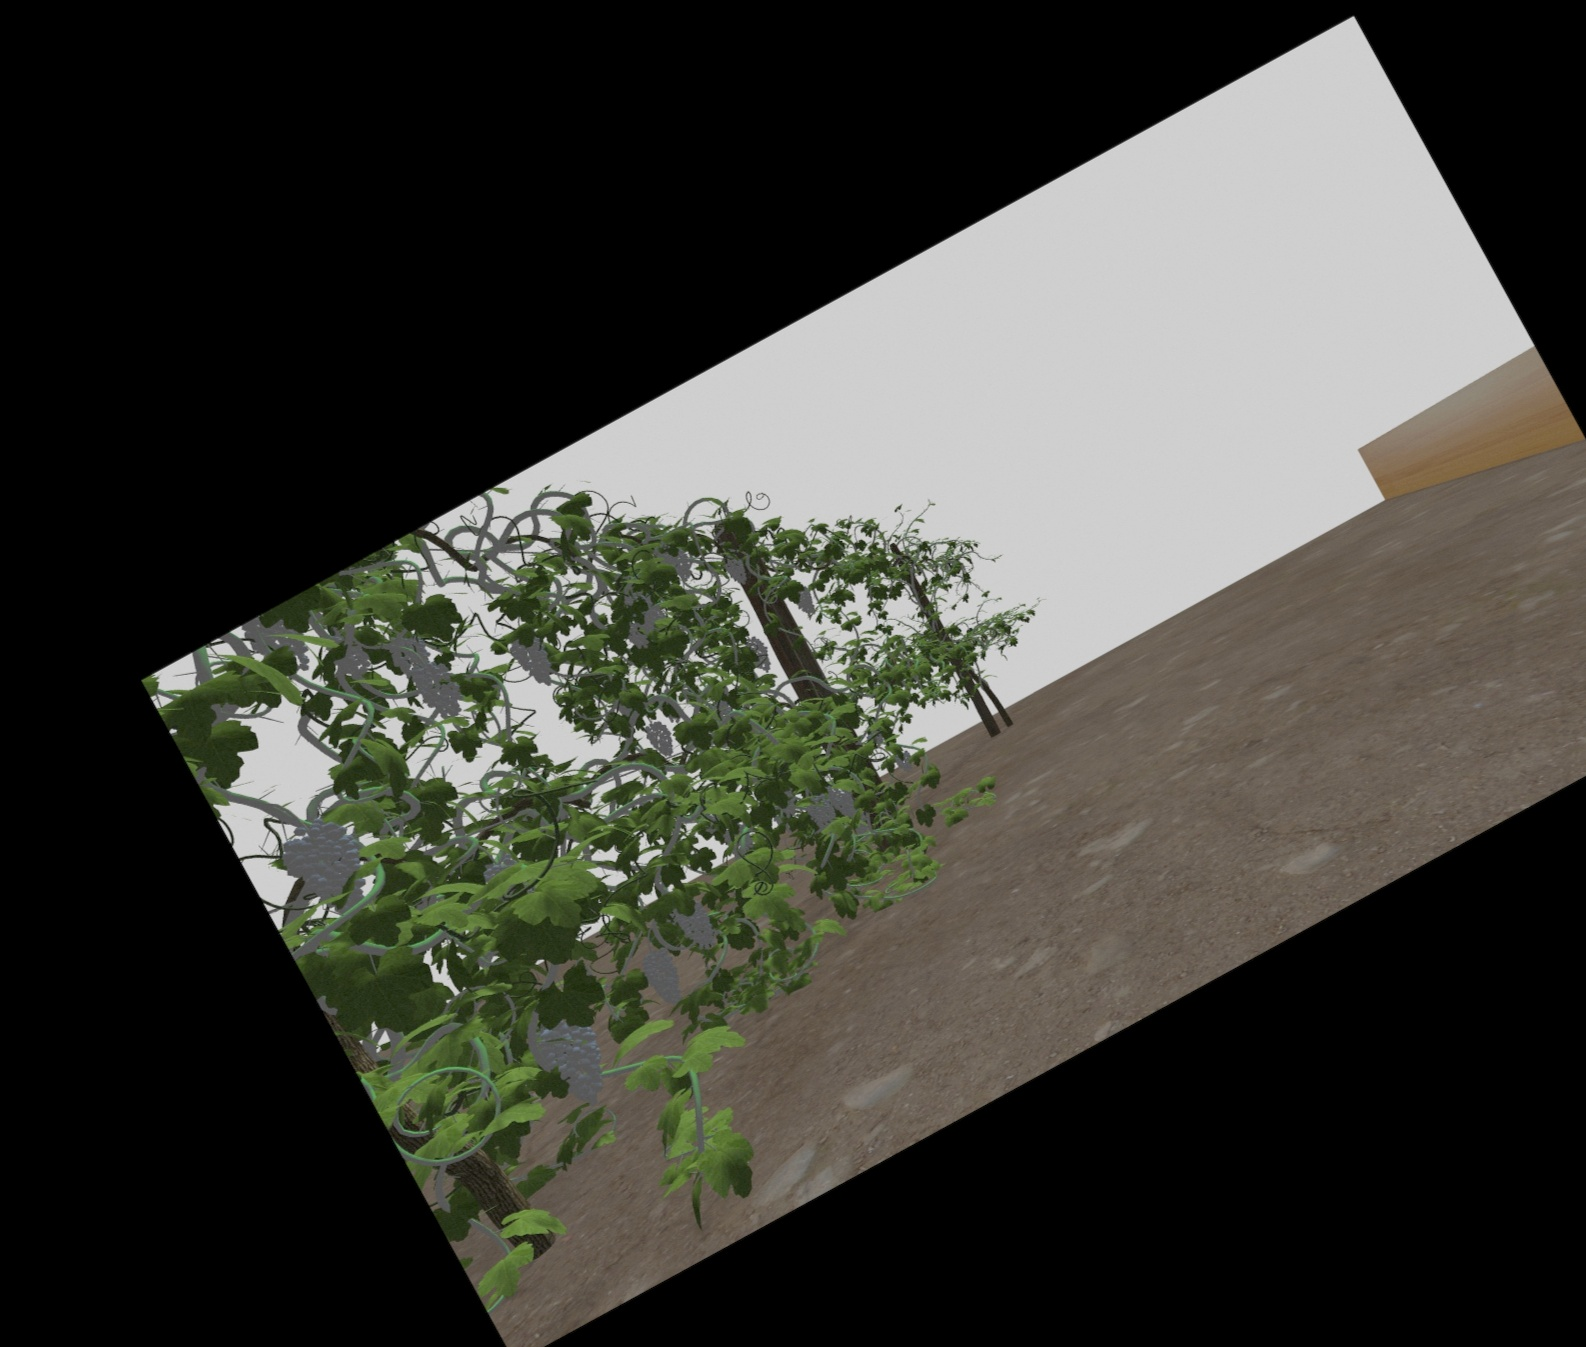grape: (289, 823, 357, 899), (546, 1022, 605, 1102), (422, 663, 458, 718), (517, 633, 550, 686), (648, 950, 681, 1000), (681, 903, 712, 947), (391, 633, 425, 669), (631, 591, 656, 629), (664, 543, 688, 580), (830, 782, 854, 816), (649, 722, 671, 756), (750, 636, 770, 671), (812, 799, 835, 829), (795, 587, 812, 613), (730, 556, 746, 584), (629, 623, 645, 648), (897, 751, 913, 771)
